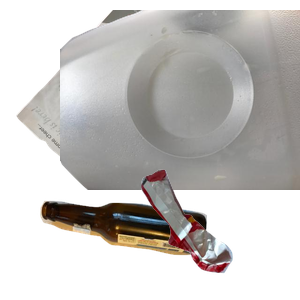glass: (37, 198, 236, 300)
paper: (14, 10, 229, 190)
plastic: (60, 10, 300, 190)
trash: (139, 167, 300, 300)
